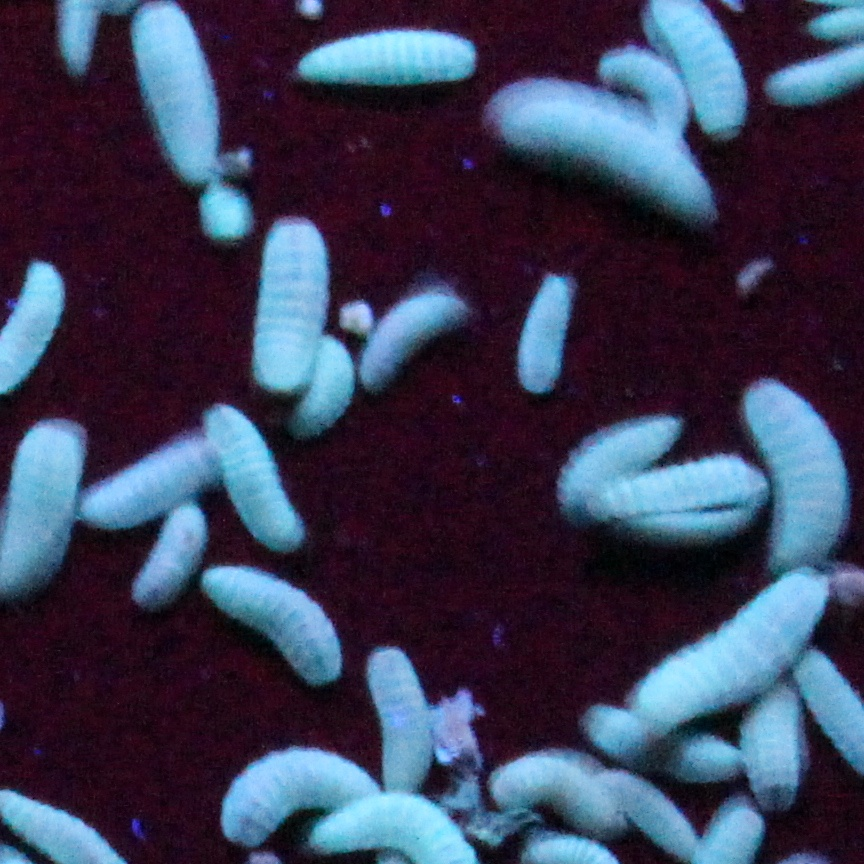larve: (474, 88, 726, 236), (642, 568, 834, 736), (214, 412, 314, 552), (210, 753, 375, 836), (766, 384, 834, 580), (198, 580, 342, 668), (364, 658, 447, 801), (90, 444, 218, 532), (594, 468, 758, 536), (570, 416, 686, 508), (495, 761, 627, 838), (262, 224, 322, 392), (370, 288, 466, 392), (294, 28, 486, 76), (618, 56, 702, 136), (522, 280, 566, 408)
